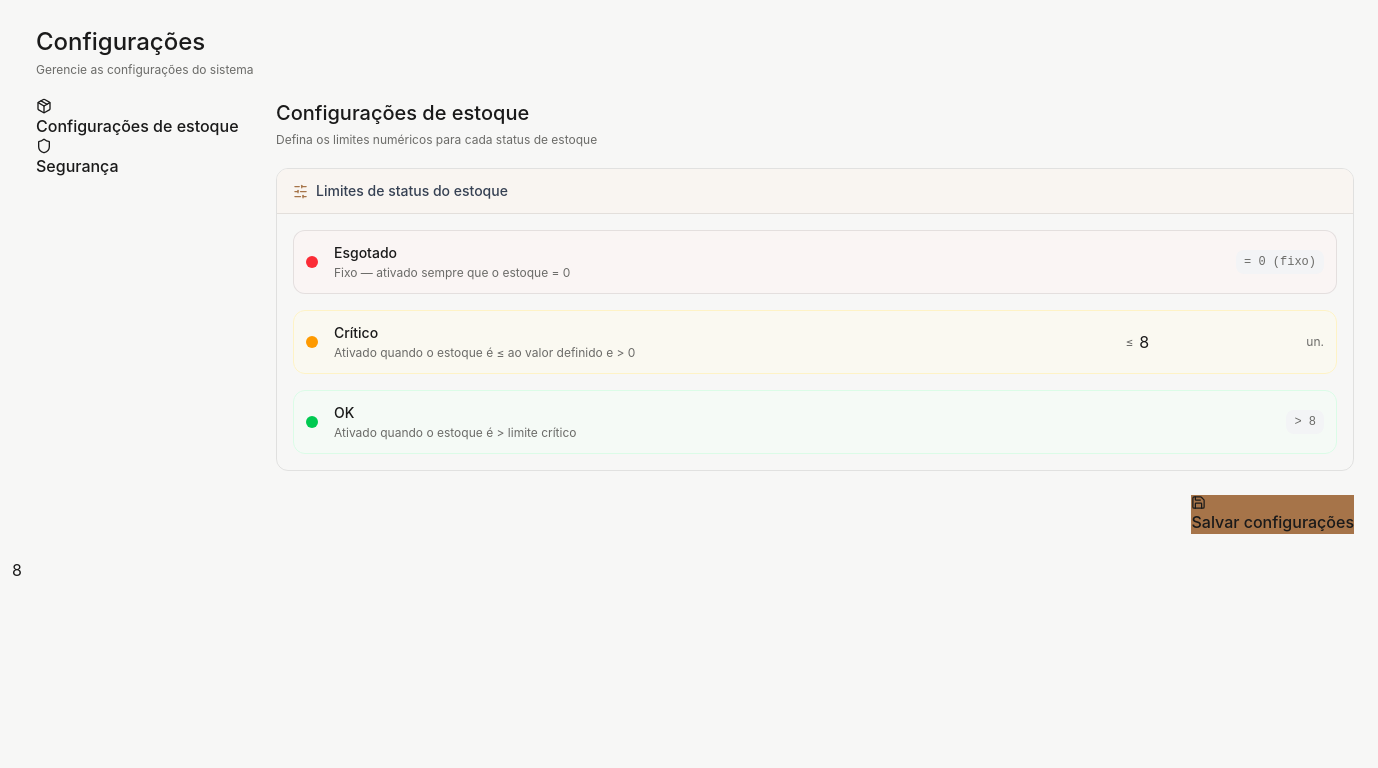
Scenario: Settings: caracterizacao das validacoes › limite invalido '-1' nao envia requisicao nem mostra sucesso
The width and height of the screenshot is (1378, 768).
Replace the text in the number field with "-1": point(1220, 342) [1139,330,1300,354]
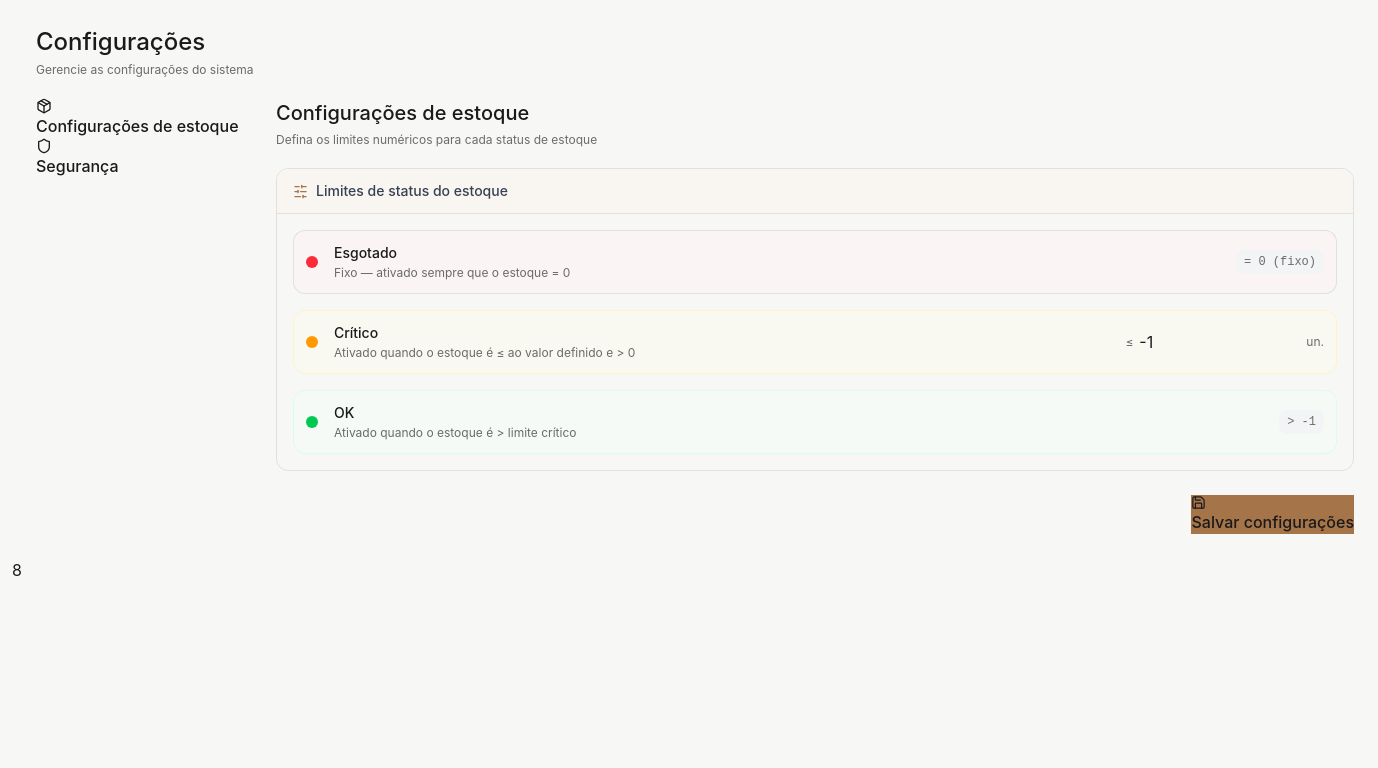
Click the button "Salvar configurações": point(1273, 514) [1192,495,1354,534]
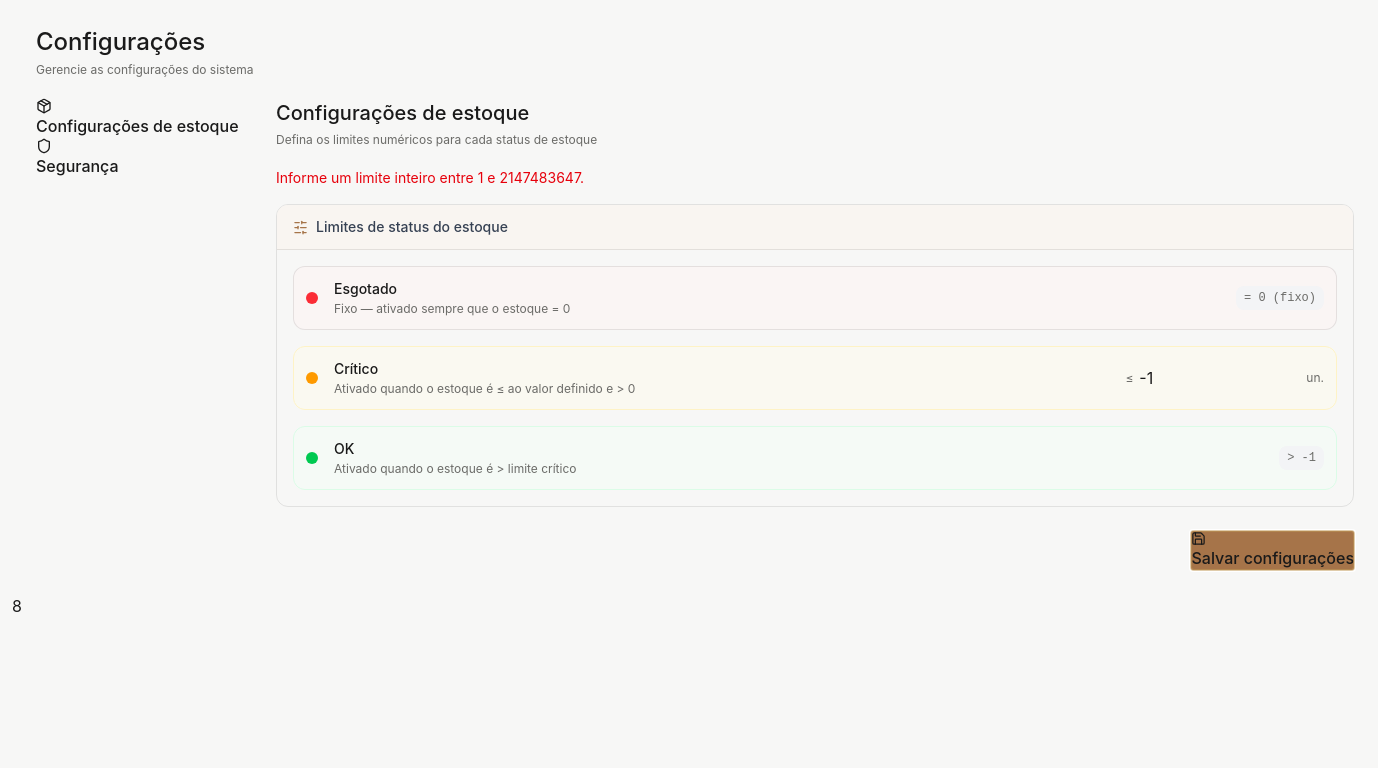
Expected: the text with test id "stock-limit" reads "8", [12,596,22,616]
Expected: the message reads "Informe um limite inteiro entre 1 e 2147483647.", [276,169,584,186]
